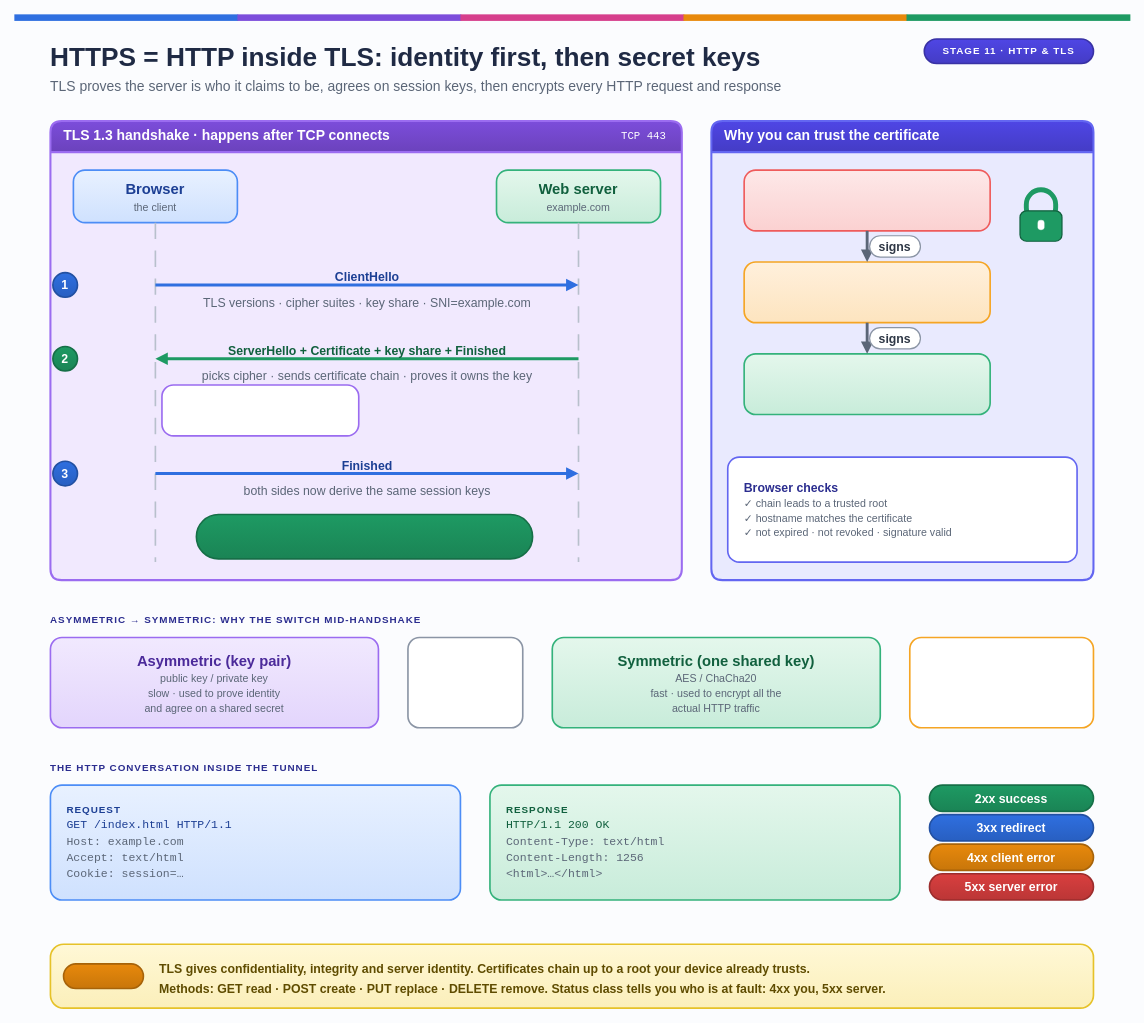
The diagram is 1144 pixels wide and 1023 high, and some of its shapes have lost their labels. Here are the shapes that lost their labels. From the top down, the centre of each, then its label:
[867,200]: Root CA pre-installed in your OS/browser
[867,292]: Intermediate CA signed by the root
[867,384]: example.com certificate signed by the intermediate
[260,410]: Client verifies chain · name · dates · signature
[364,536]: HTTP over TLS — encrypted both ways
[465,682]: then →
[1001,682]: HTTPS port 443 HTTP is 80
[103,976]: REMEMBER
